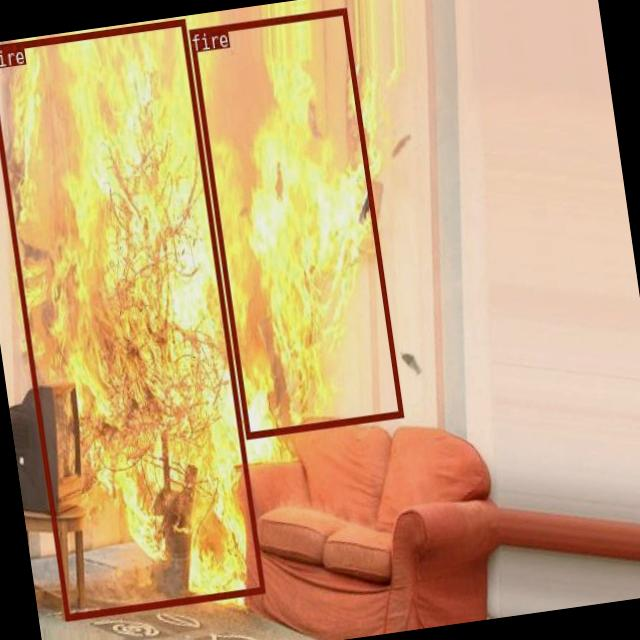fire: (0, 18, 265, 619), (188, 7, 403, 438)
